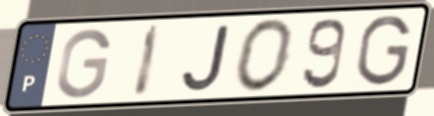9: (301, 16, 348, 90)
G: (53, 26, 114, 101), (353, 13, 413, 89)
I: (130, 22, 165, 100)
J: (179, 22, 233, 94)
O: (232, 16, 298, 95)
